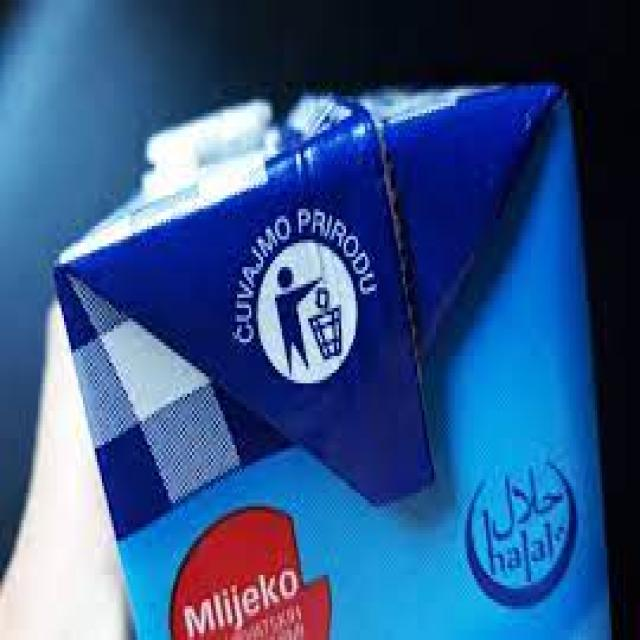cardboard: (54, 82, 612, 640)
